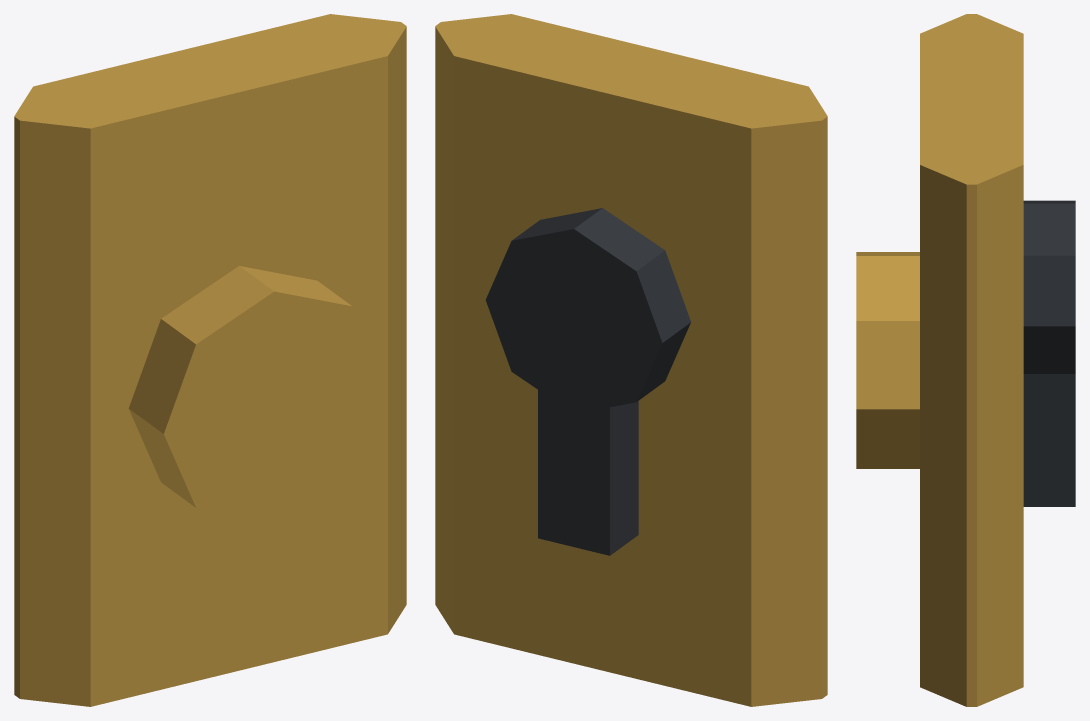
The model's file is SM_LPI_Open_Escutcheon_01.fbx.
3 views of the same model, side by side, from view 1: azimuth 30°, elevation 25°; view 2: azimuth 150°, elevation 25°; view 3: azimuth 270°, elevation 25° (orthographic). The views are drawn at different scales.
Visible parts, largest first — view 1: SM_LPI_Open_Escutcheon_01; view 2: SM_LPI_Open_Escutcheon_01; view 3: SM_LPI_Open_Escutcheon_01.
Boxes of the visible parts, x1=… form: SM_LPI_Open_Escutcheon_01: x1=14, y1=14, x2=406, y2=706; SM_LPI_Open_Escutcheon_01: x1=435, y1=14, x2=827, y2=706; SM_LPI_Open_Escutcheon_01: x1=856, y1=14, x2=1075, y2=706.
Bounding box in the file's own units: 0.07 × 0.1 × 0.038.
